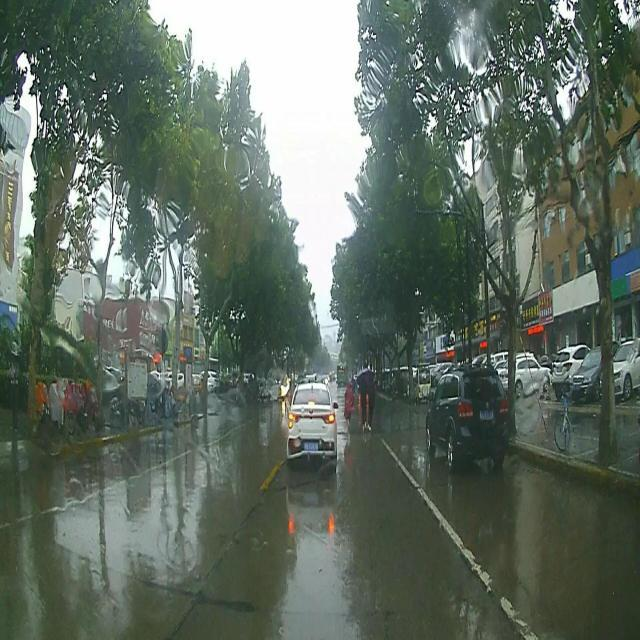car: (423, 370, 512, 468), (284, 382, 338, 472)
